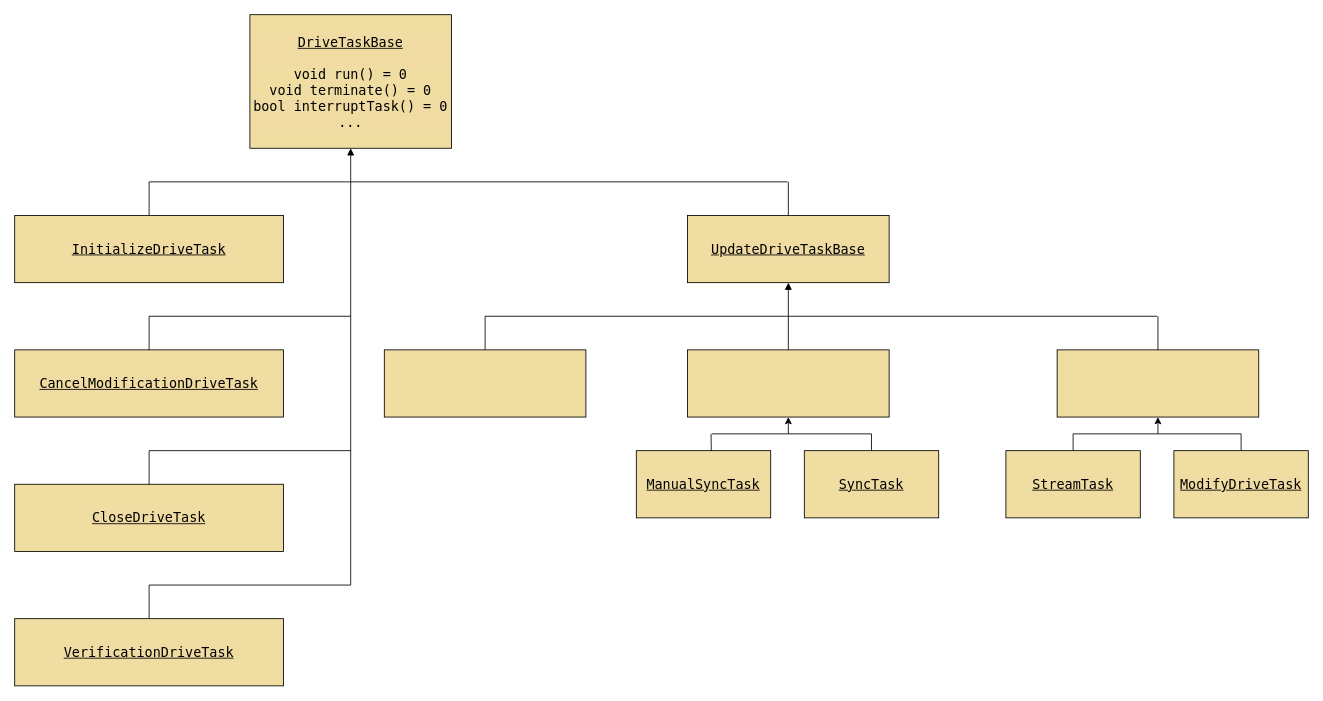
Image size: 1323x701. Some labels were removed from this diagram. The box of each missing label's shape, as (x1, y1, x2, y2) in pixels:
ManualModificationsTask: (383, 349, 586, 417)
ModifyTaskBase: (1056, 349, 1259, 417)
SyncTaskBase: (687, 349, 889, 417)
